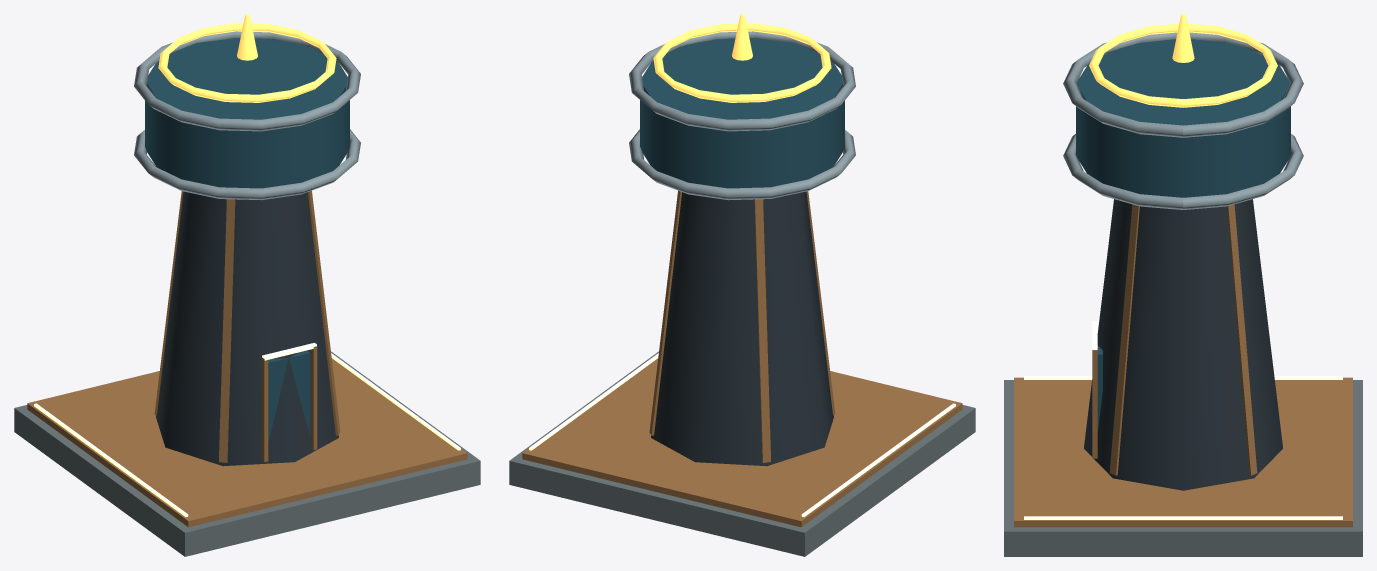
The model's file is operations-beacon.lod2.glb.
3 views of the same model, side by side, from view 1: azimuth 30°, elevation 25°; view 2: azimuth 150°, elevation 25°; view 3: azimuth 270°, elevation 25° (orthographic). The views are drawn at different scales.
Visible parts, largest first — view 1: structure, signal; view 2: structure, signal; view 3: structure, signal.
Boxes of the visible parts, x1,y1,x2,y2 form: structure: (14, 31, 480, 556); signal: (158, 14, 336, 102); structure: (509, 31, 975, 556); signal: (653, 14, 831, 102); structure: (1004, 32, 1362, 556); signal: (1089, 14, 1277, 107).
Size of the model in its own units: 9 by 12.9 by 9.
